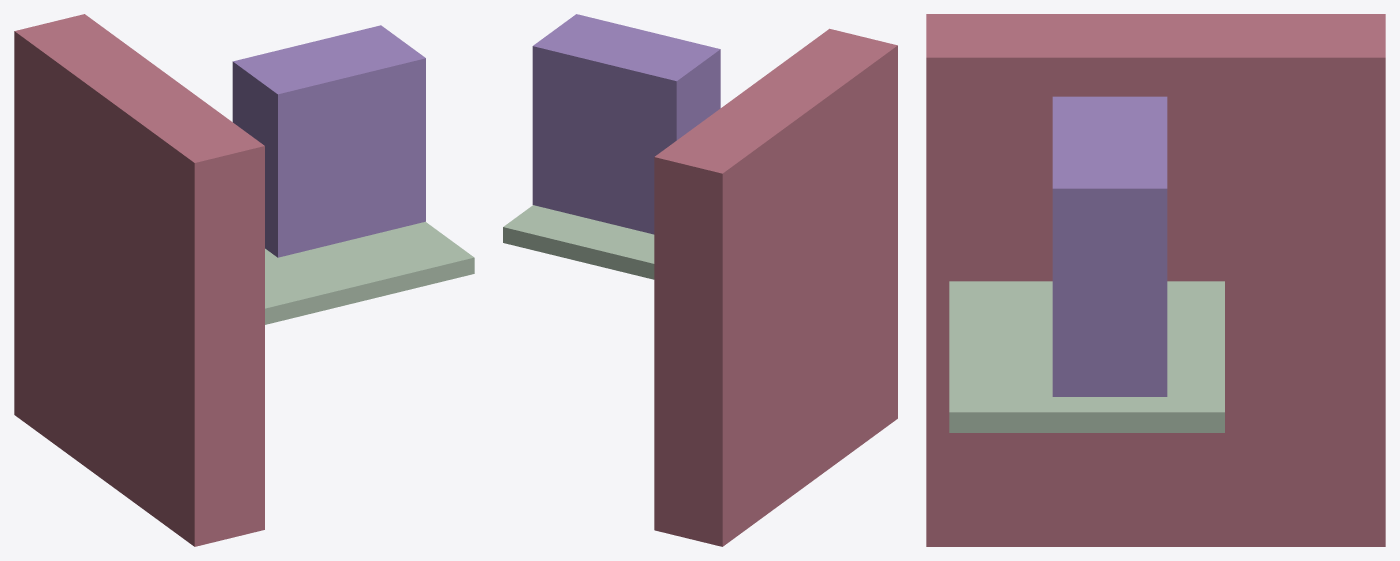
The model's file is 199549_pred.glb.
3 views of the same model, side by side, from view 1: azimuth 30°, elevation 25°; view 2: azimuth 150°, elevation 25°; view 3: azimuth 270°, elevation 25° (orthographic). The views are drawn at different scales.
Visible parts, largest first — view 1: world; view 2: world; view 3: world.
Boxes of the visible parts, bbox=[...] form: world: bbox=[14, 14, 474, 546]; world: bbox=[503, 14, 897, 546]; world: bbox=[926, 14, 1385, 546].
Size of the model in its own units: 3.7 by 4.7 by 4.
